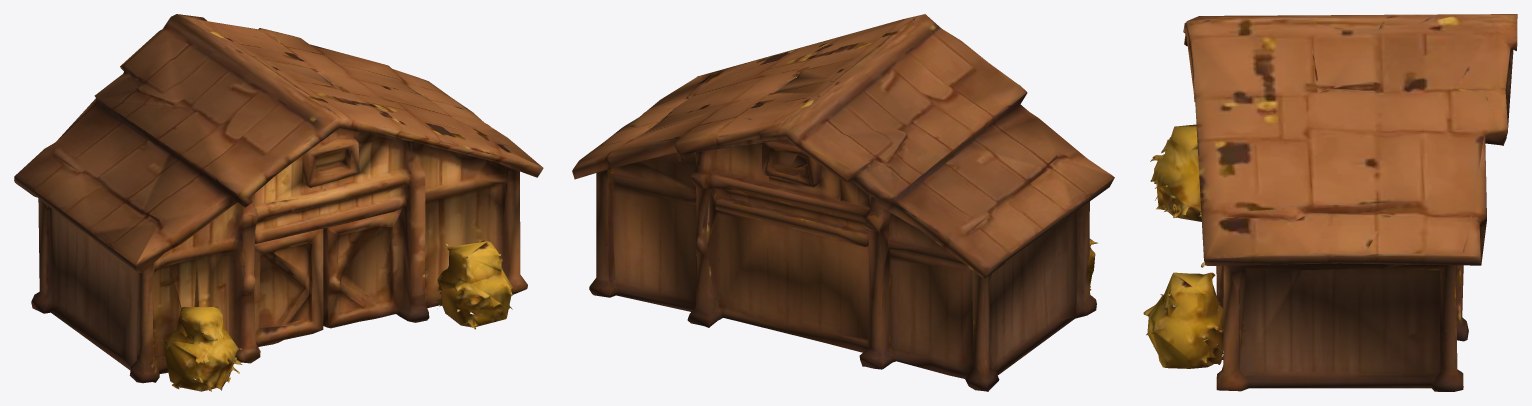
File: warehouse.glb
The picture shows the model from 3 angles, left to right: view 1: azimuth 30°, elevation 25°; view 2: azimuth 150°, elevation 25°; view 3: azimuth 270°, elevation 25°; orthographic projection. The views are drawn at different scales.
Visible parts, largest first — view 1: tripo_node_2fe11fb8; view 2: tripo_node_2fe11fb8; view 3: tripo_node_2fe11fb8.
Part boxes in pixels (x1=…): tripo_node_2fe11fb8: x1=14, y1=14, x2=543, y2=391; tripo_node_2fe11fb8: x1=572, y1=14, x2=1114, y2=391; tripo_node_2fe11fb8: x1=1143, y1=14, x2=1517, y2=391.
Bounding box in the file's own units: 99.6 × 55.26 × 70.56.
Materials: 1 (1 with a texture image).
